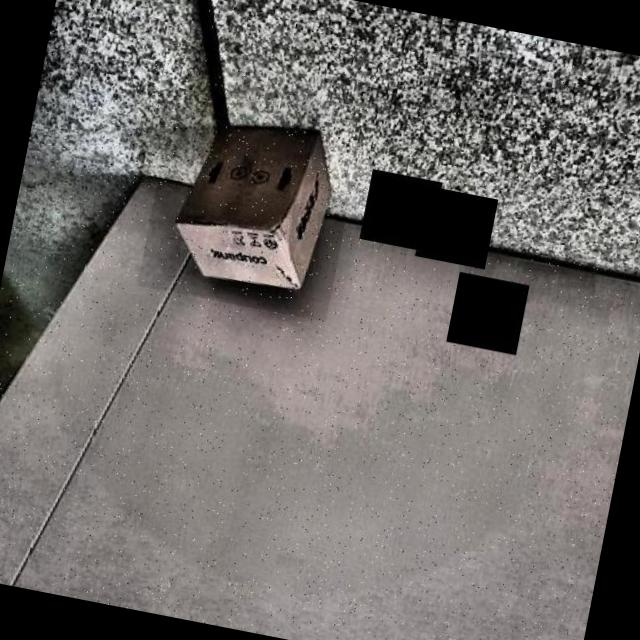box: (137, 87, 364, 322)
